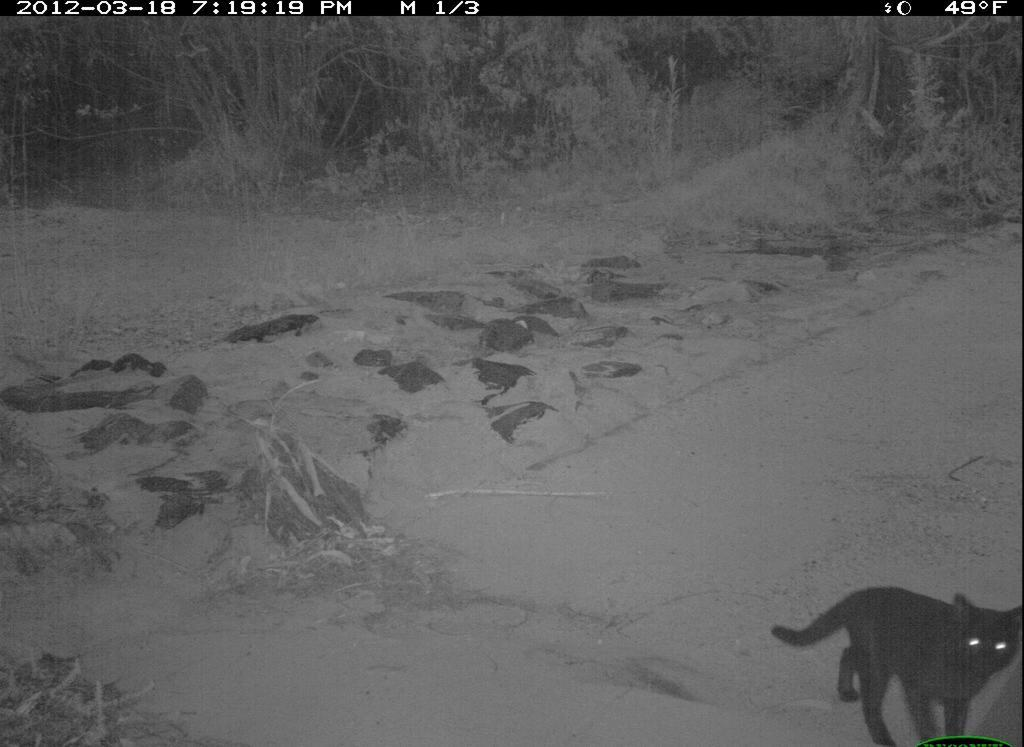cat: (771, 556, 1014, 747)
